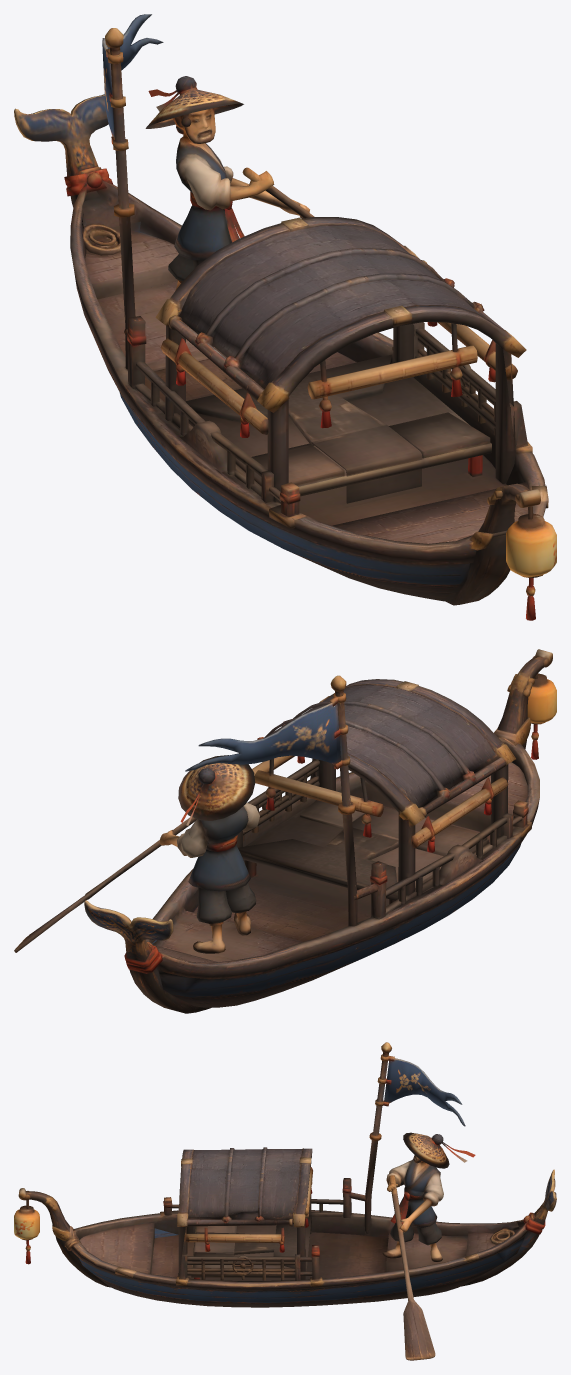
Rendered from boat_deepseek.glb.
The picture shows the model from 3 angles, top to bottom: view 1: azimuth 30°, elevation 25°; view 2: azimuth 150°, elevation 25°; view 3: azimuth 270°, elevation 25°; orthographic projection. The views are drawn at different scales.
Visible parts, largest first — view 1: tripo_node_1c40bc6f-8491-49fd-863e-c5d464239948; view 2: tripo_node_1c40bc6f-8491-49fd-863e-c5d464239948; view 3: tripo_node_1c40bc6f-8491-49fd-863e-c5d464239948.
Part boxes in pixels (x1=…): tripo_node_1c40bc6f-8491-49fd-863e-c5d464239948: x1=14, y1=14, x2=556, y2=620; tripo_node_1c40bc6f-8491-49fd-863e-c5d464239948: x1=14, y1=649, x2=556, y2=1013; tripo_node_1c40bc6f-8491-49fd-863e-c5d464239948: x1=14, y1=1042, x2=556, y2=1360.
Bounding box in the file's own units: 0.481 × 0.4585 × 0.9995.
1 material, 1 textured.
